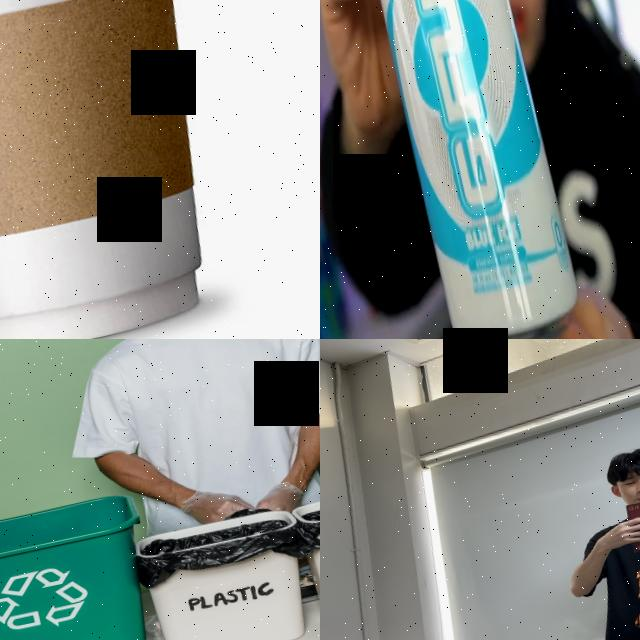can: (335, 0, 588, 339)
cup: (0, 0, 279, 339)
